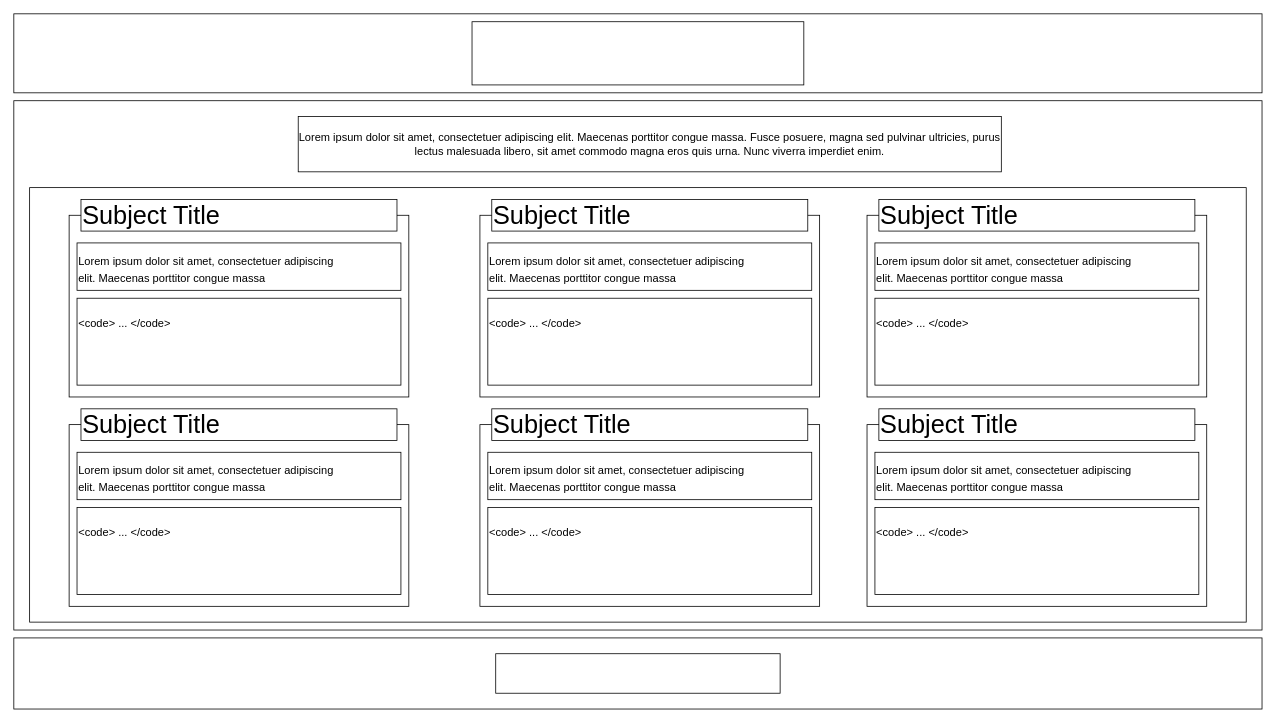
Some shapes in this 1276 by 723 pixel diagram are drawn without their labels. Here are the shapes that lost their labels. From the top down, the box of each, then its label:
(471, 21, 804, 85): CSS Snippet Cheatsheet
(495, 653, 780, 693): Made with ♥ and CSS
